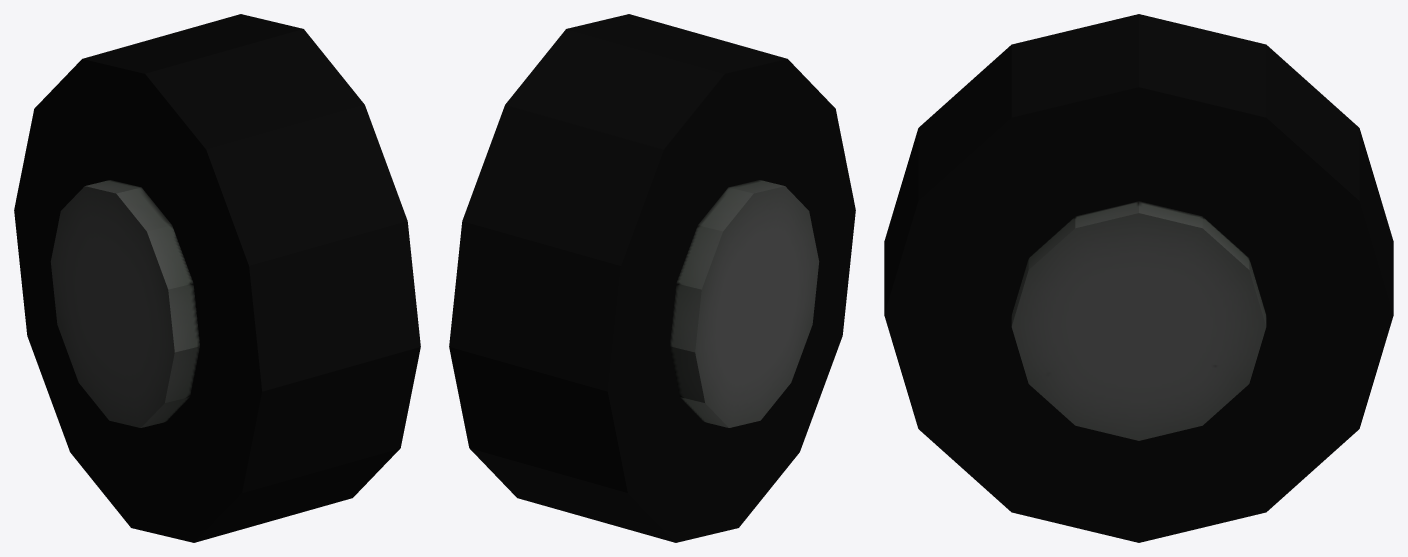
Rendered from wiel_Export.fbx.
3 views of the same model, side by side, from view 1: azimuth 30°, elevation 25°; view 2: azimuth 150°, elevation 25°; view 3: azimuth 270°, elevation 25° (orthographic). The views are drawn at different scales.
Visible parts, largest first — view 1: pCylinder8; view 2: pCylinder8; view 3: pCylinder8.
Part boxes in pixels (<box>): pCylinder8: <box>14,14,420,542</box>; pCylinder8: <box>449,14,855,542</box>; pCylinder8: <box>884,14,1393,542</box>.
Size of the model in its own units: 0.0726 by 0.1476 by 0.1453.
